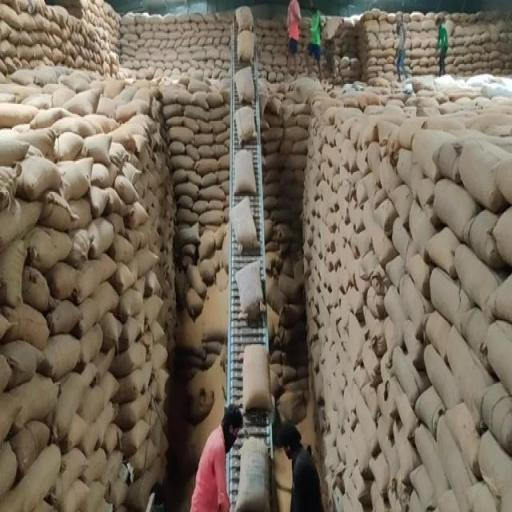c-belt-sack-count: (235, 435, 269, 511), (243, 345, 271, 418), (236, 260, 262, 319), (230, 197, 258, 251), (234, 150, 254, 194), (235, 106, 255, 145), (234, 66, 254, 103), (238, 30, 254, 62), (235, 6, 253, 32)
